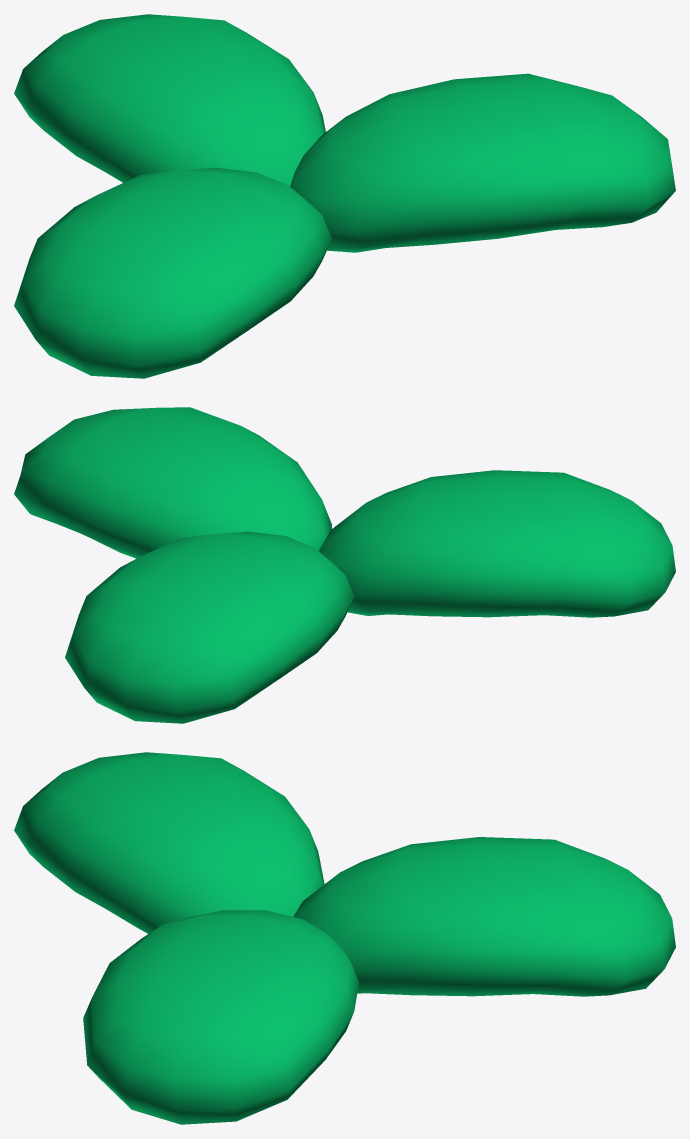
The model's file is Town_7_Plant_2.glb.
3 views of the same model, one above another, from view 1: azimuth 30°, elevation 25°; view 2: azimuth 150°, elevation 25°; view 3: azimuth 270°, elevation 25° (orthographic). The views are drawn at different scales.
Parts seen in each view (by area): view 1: Town_7_Plant_2; view 2: Town_7_Plant_2; view 3: Town_7_Plant_2.
Boxes of the visible parts, bbox=[...] form: Town_7_Plant_2: bbox=[14, 14, 675, 378]; Town_7_Plant_2: bbox=[14, 407, 675, 723]; Town_7_Plant_2: bbox=[14, 752, 675, 1124].
Size of the model in its own units: 0.7759 by 0.1376 by 0.684.
1 material, 1 textured.
